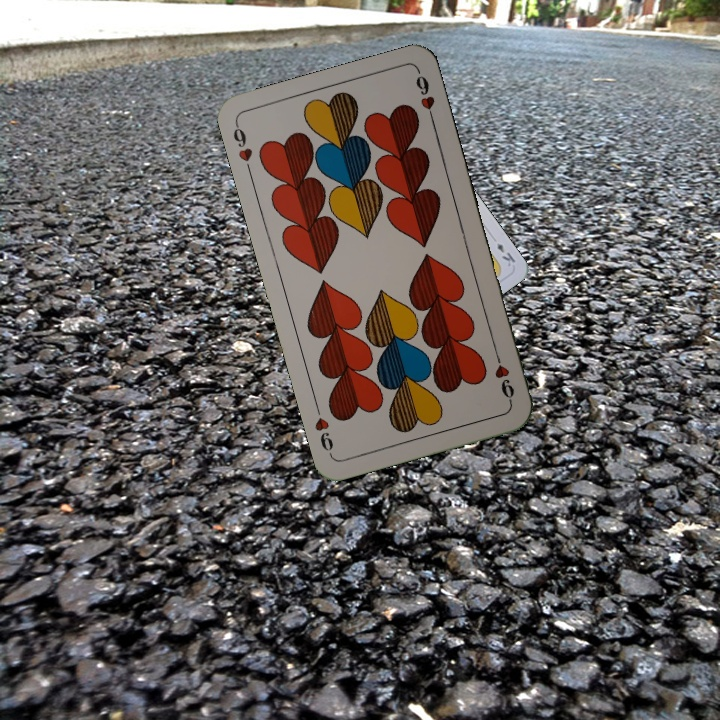EK: (493, 239, 518, 269)
H9: (490, 348, 517, 406), (229, 120, 255, 178)
